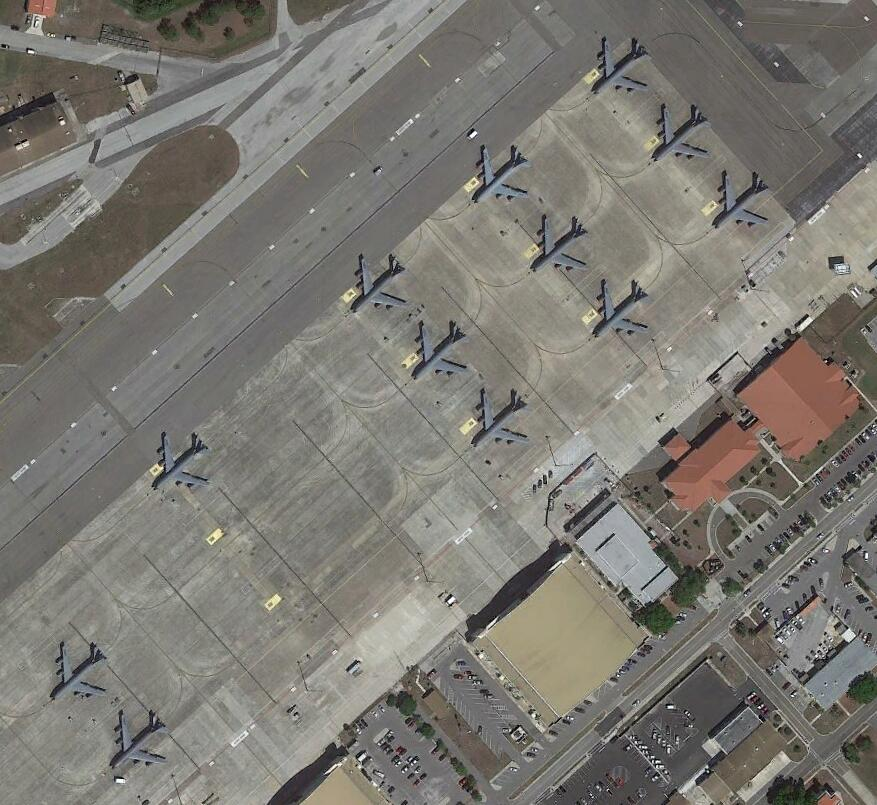A14: (469, 387, 539, 454), (587, 276, 658, 342), (47, 641, 116, 707), (346, 251, 414, 317), (407, 317, 478, 380), (645, 104, 714, 168), (710, 170, 778, 234), (149, 432, 217, 495), (591, 34, 656, 99), (472, 145, 536, 209), (528, 216, 596, 276), (108, 712, 174, 771)
